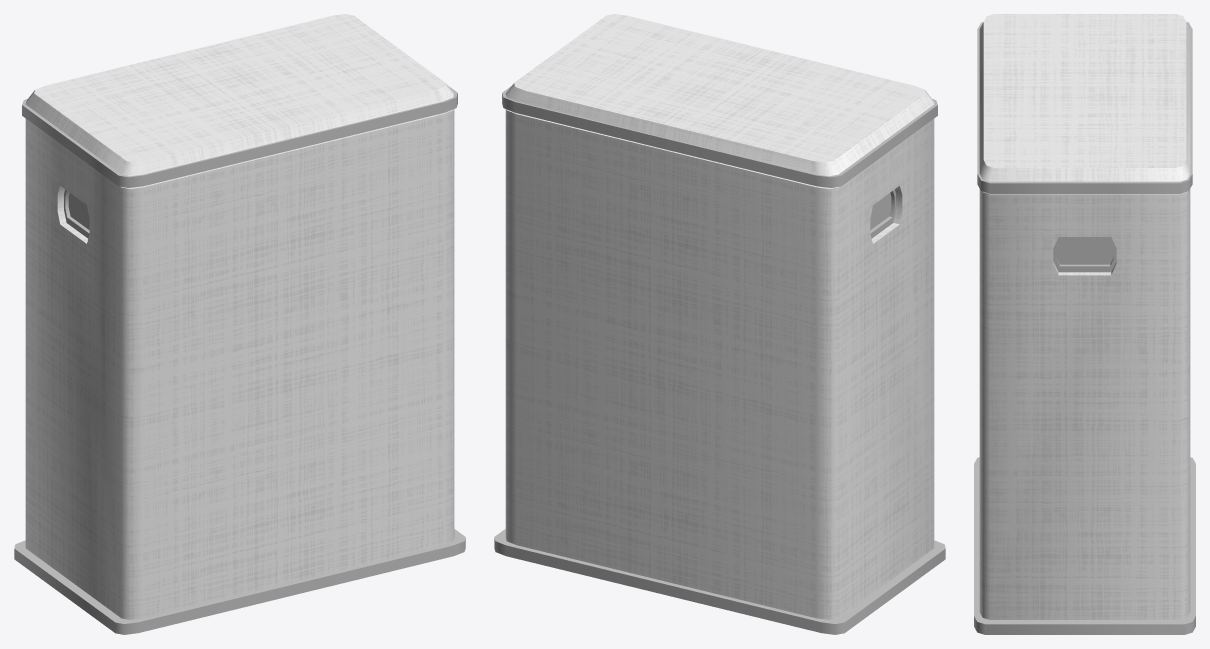
The model's file is ClothBasket.fbx.
The picture shows the model from 3 angles, left to right: view 1: azimuth 30°, elevation 25°; view 2: azimuth 150°, elevation 25°; view 3: azimuth 270°, elevation 25°; orthographic projection.
Visible parts, largest first — view 1: Cloth_Basket; view 2: Cloth_Basket; view 3: Cloth_Basket.
Boxes of the visible parts, x1,y1,x2,y2 form: Cloth_Basket: (14,14,465,634); Cloth_Basket: (494,14,945,634); Cloth_Basket: (974,14,1195,634).
Bounding box in the file's own units: 47.37 × 60.11 × 26.32.
